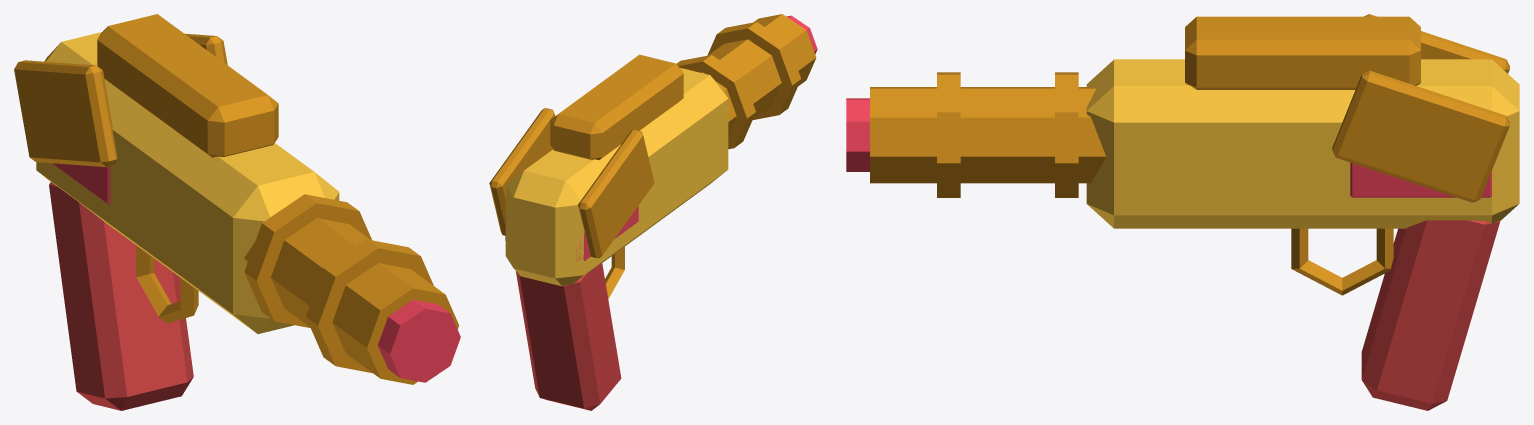
File: GoldLaserBlaster.fbx
3 renders of one model, left to right at view 1: azimuth 30°, elevation 25°; view 2: azimuth 150°, elevation 25°; view 3: azimuth 270°, elevation 25°, orthographic. The views are drawn at different scales.
Visible parts, largest first — view 1: GoldLaserBlaster; view 2: GoldLaserBlaster; view 3: GoldLaserBlaster.
Boxes of the visible parts, bbox=[...] form: GoldLaserBlaster: bbox=[14, 14, 460, 410]; GoldLaserBlaster: bbox=[489, 14, 817, 410]; GoldLaserBlaster: bbox=[846, 14, 1519, 410].
Bounding box in the file's own units: 0.78 × 2.07 × 3.42.
Materials: 1 (1 with a texture image).
